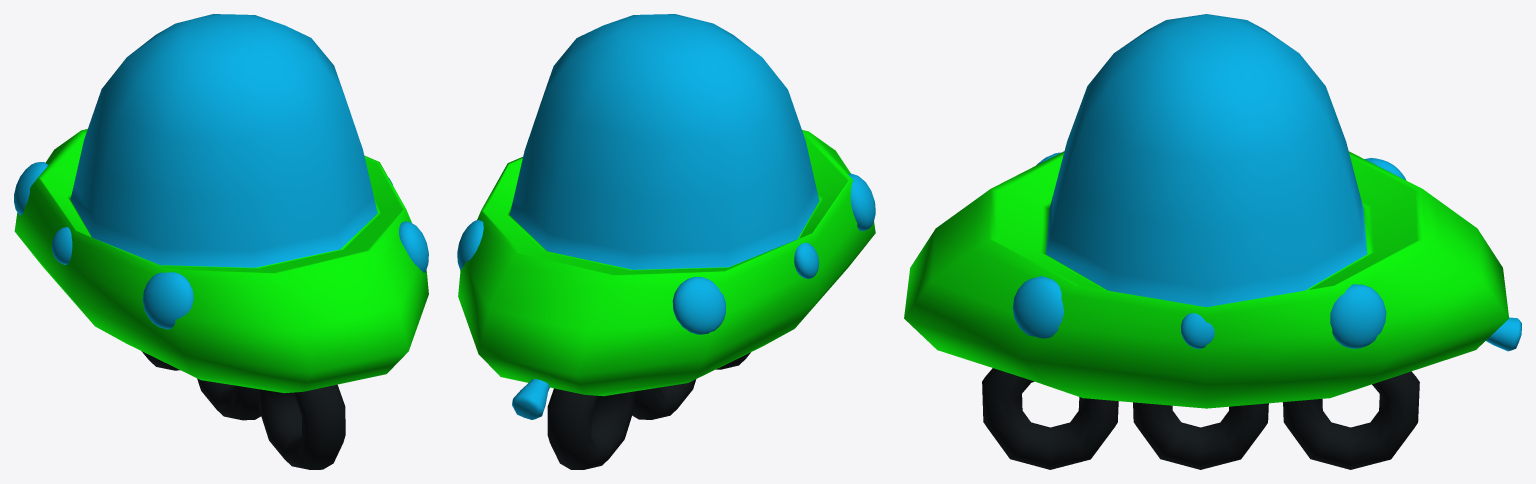
Rendered from Car_green.FBX.
3 renders of one model, left to right at view 1: azimuth 30°, elevation 25°; view 2: azimuth 150°, elevation 25°; view 3: azimuth 270°, elevation 25°, orthographic. The views are drawn at different scales.
Parts seen in each view (by area): view 1: polySurface33; view 2: polySurface33; view 3: polySurface33.
Part boxes in pixels (bbox=[...]): polySurface33: bbox=[14, 14, 428, 469]; polySurface33: bbox=[457, 14, 875, 469]; polySurface33: bbox=[904, 14, 1521, 469].
Size of the model in its own units: 107 by 123 by 160.
